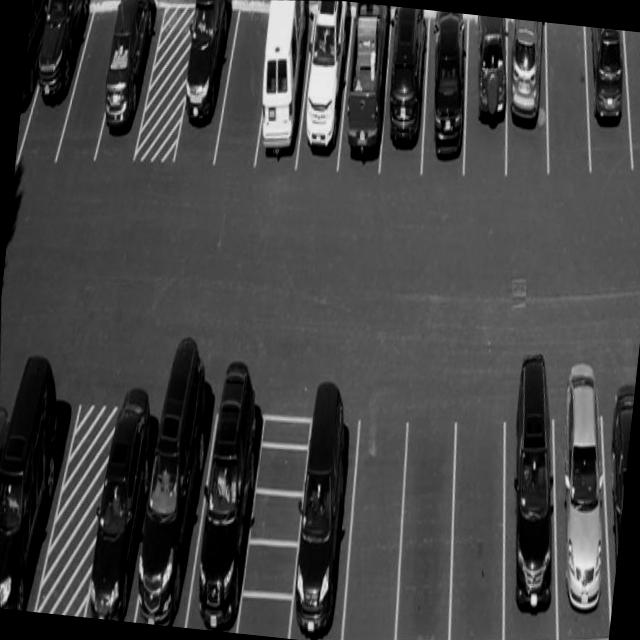car: (476, 373, 587, 640), (120, 341, 223, 623), (527, 384, 632, 640), (176, 376, 280, 630), (82, 376, 179, 624), (276, 390, 371, 640), (0, 346, 75, 609), (82, 0, 171, 194), (13, 0, 101, 186), (165, 0, 252, 187), (243, 0, 325, 191), (283, 0, 363, 190), (327, 1, 403, 185), (365, 5, 439, 185), (578, 392, 634, 629), (408, 10, 482, 184), (488, 18, 560, 179), (448, 13, 518, 175), (568, 26, 640, 183), (12, 0, 66, 190)
free: (428, 403, 529, 640), (380, 414, 474, 640), (328, 416, 420, 640), (45, 0, 135, 196), (199, 0, 286, 191), (531, 22, 604, 181), (604, 30, 640, 181)
